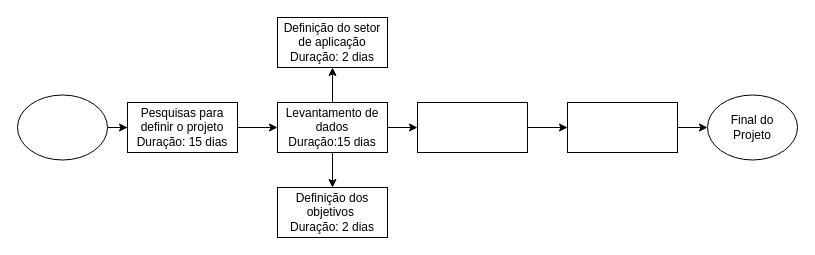
This 815x255 diagram has some shape labels left out. The box of each missing label's shape, as (x1, y1, x2, y2) in pixels:
Análise e planejamento Duração:15 dias: (416, 102, 528, 152)
Escrita do Trabalho Final Duração: 10 dias: (566, 102, 678, 152)
Início do Projeto: (16, 94, 108, 160)
